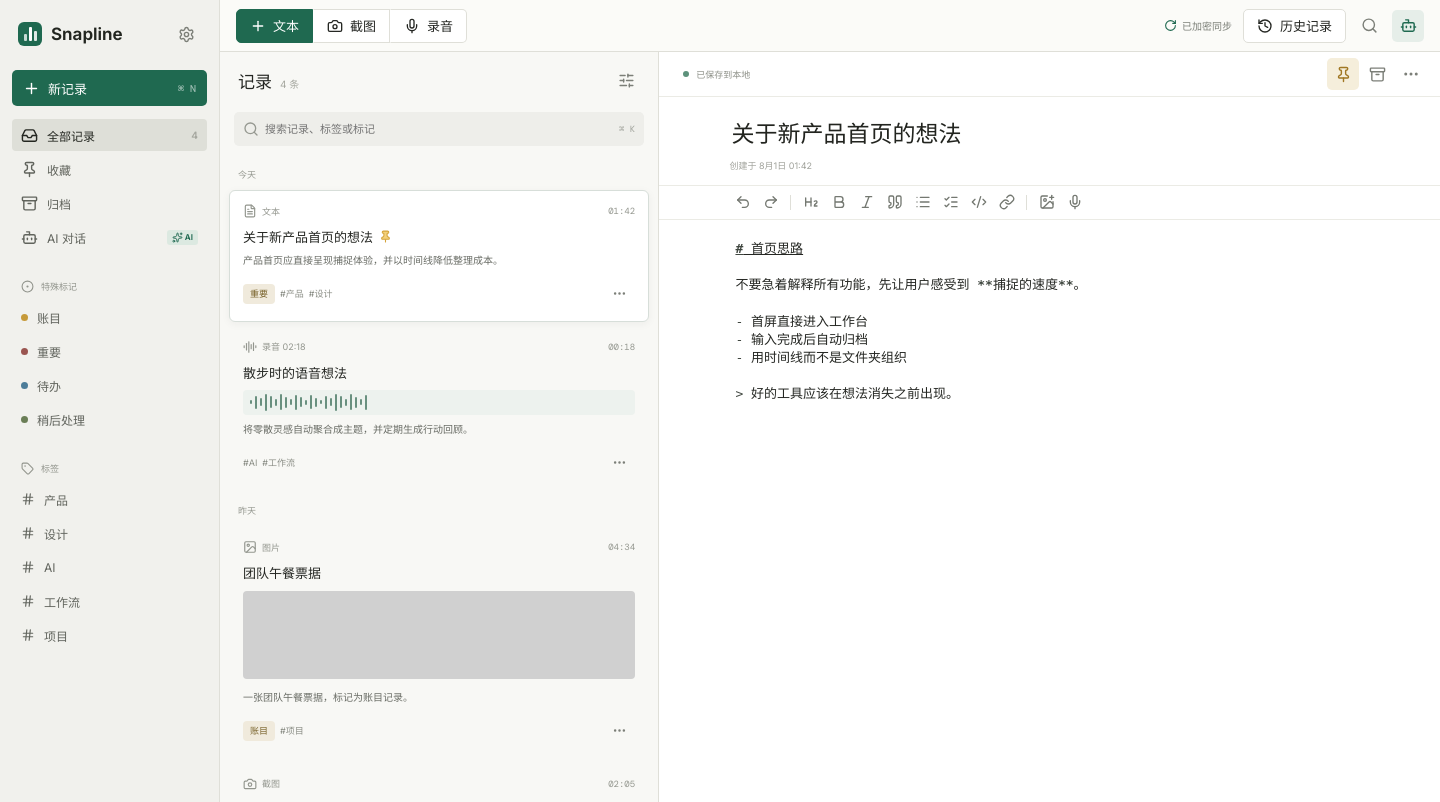
Test: desktop workspace › filters by the built-in account marker without an accounting module
This screenshot has width=1440, height=802.
Expected: the heading "团队午餐票据" is shown, [243,563,321,582]
Click the button "账目". click: coordinates (110, 317)
box: [12,301,207,333]
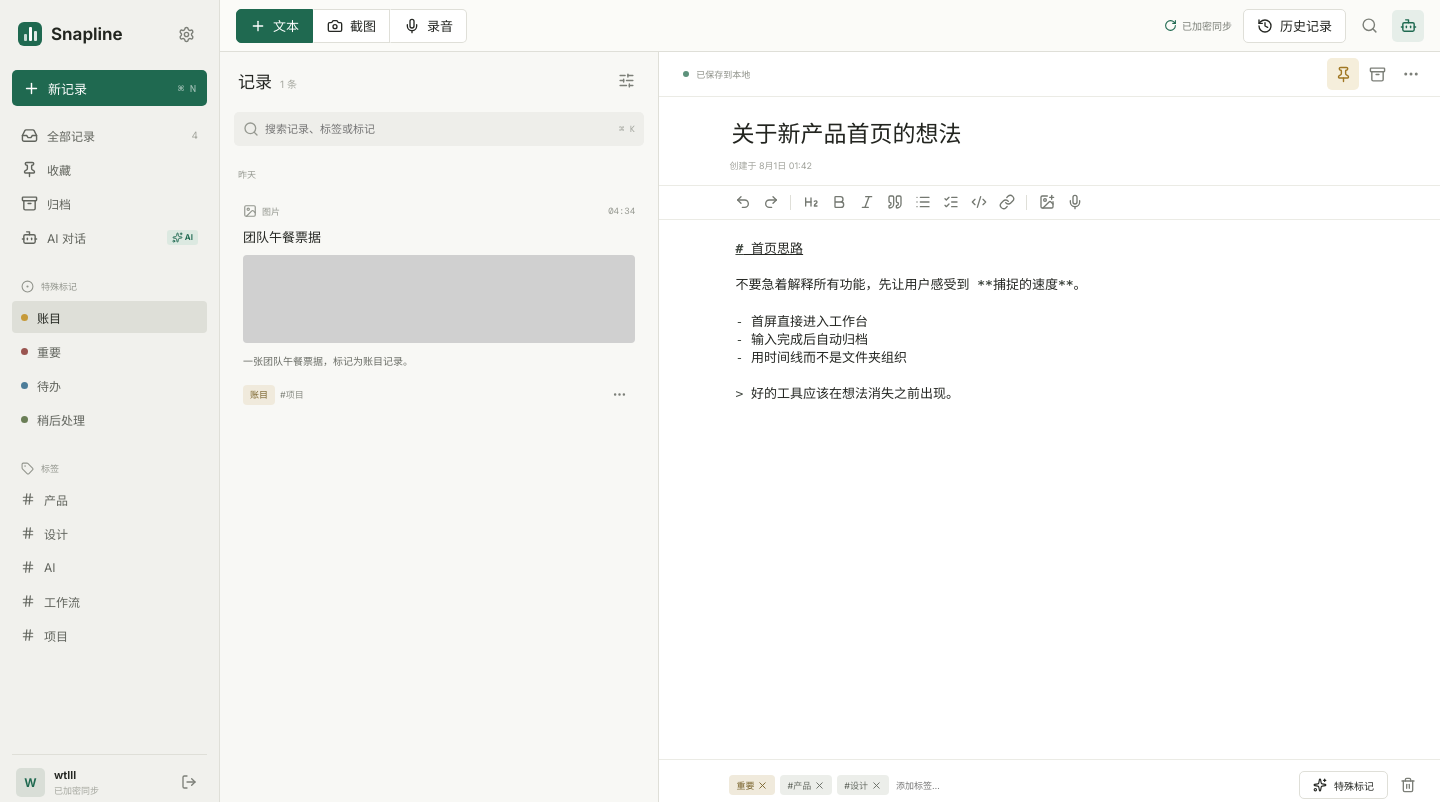
Expected: the heading "团队午餐票据" is shown, [243,227,321,246]
Now the heading "散步时的语音想法" is gone
